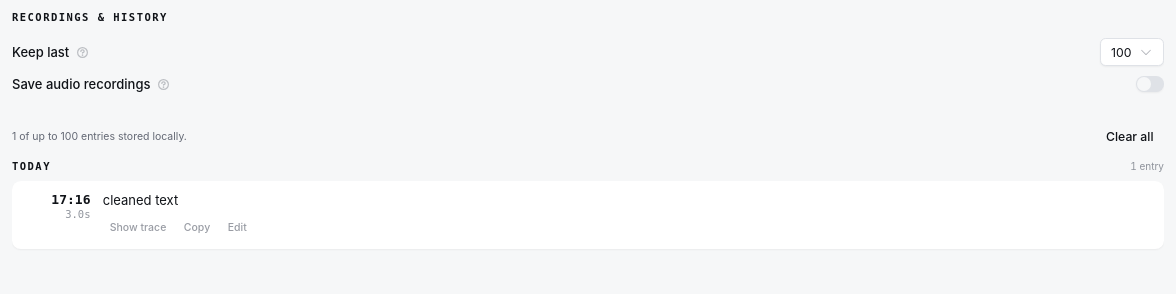
HistoryTab entry editing › saves the edited text and updates the list
Click the button "Edit". click: [237, 228]
box: [221,218,254,239]
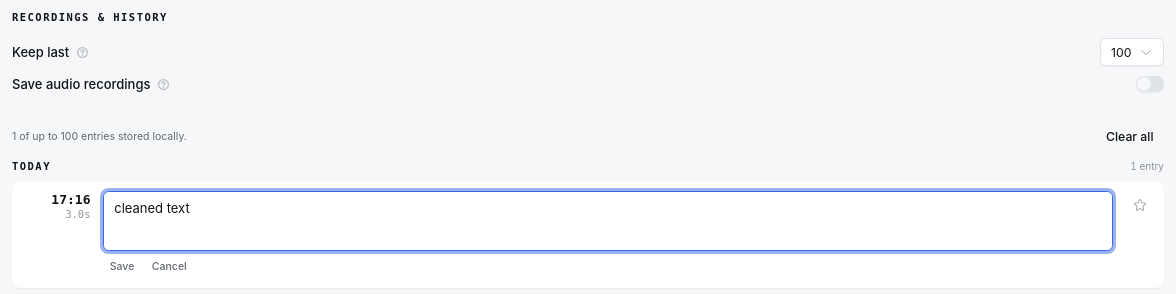
Replace the text in the text box with "edited text". click: [608, 221]
box: [103,191,1113,251]
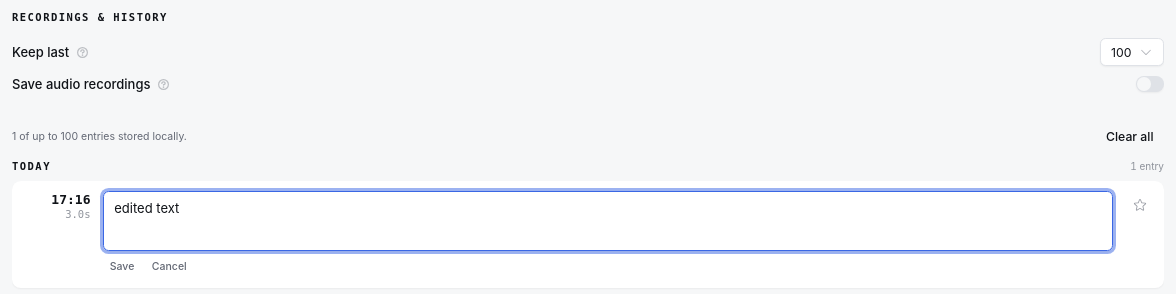
Click the button "Save". click: [122, 267]
box: [103,256,141,277]
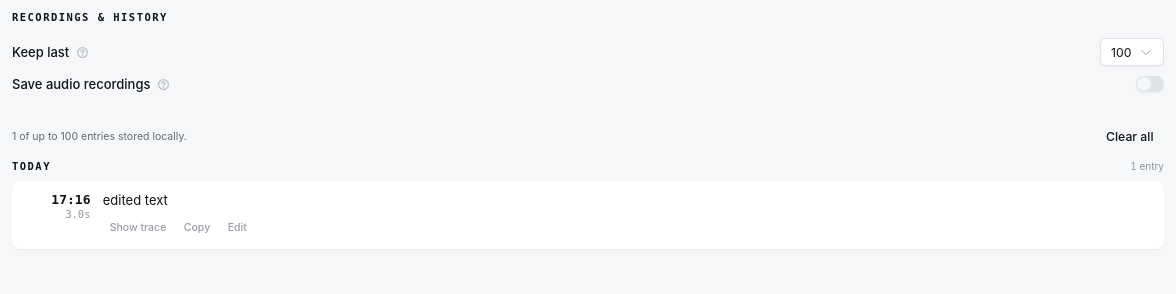
Now the text "edited text" is shown, box [103,192,168,208]
